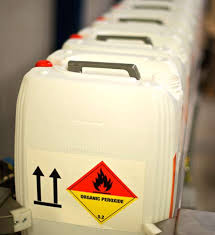OrganicPeroxide: (66, 162, 139, 226)
